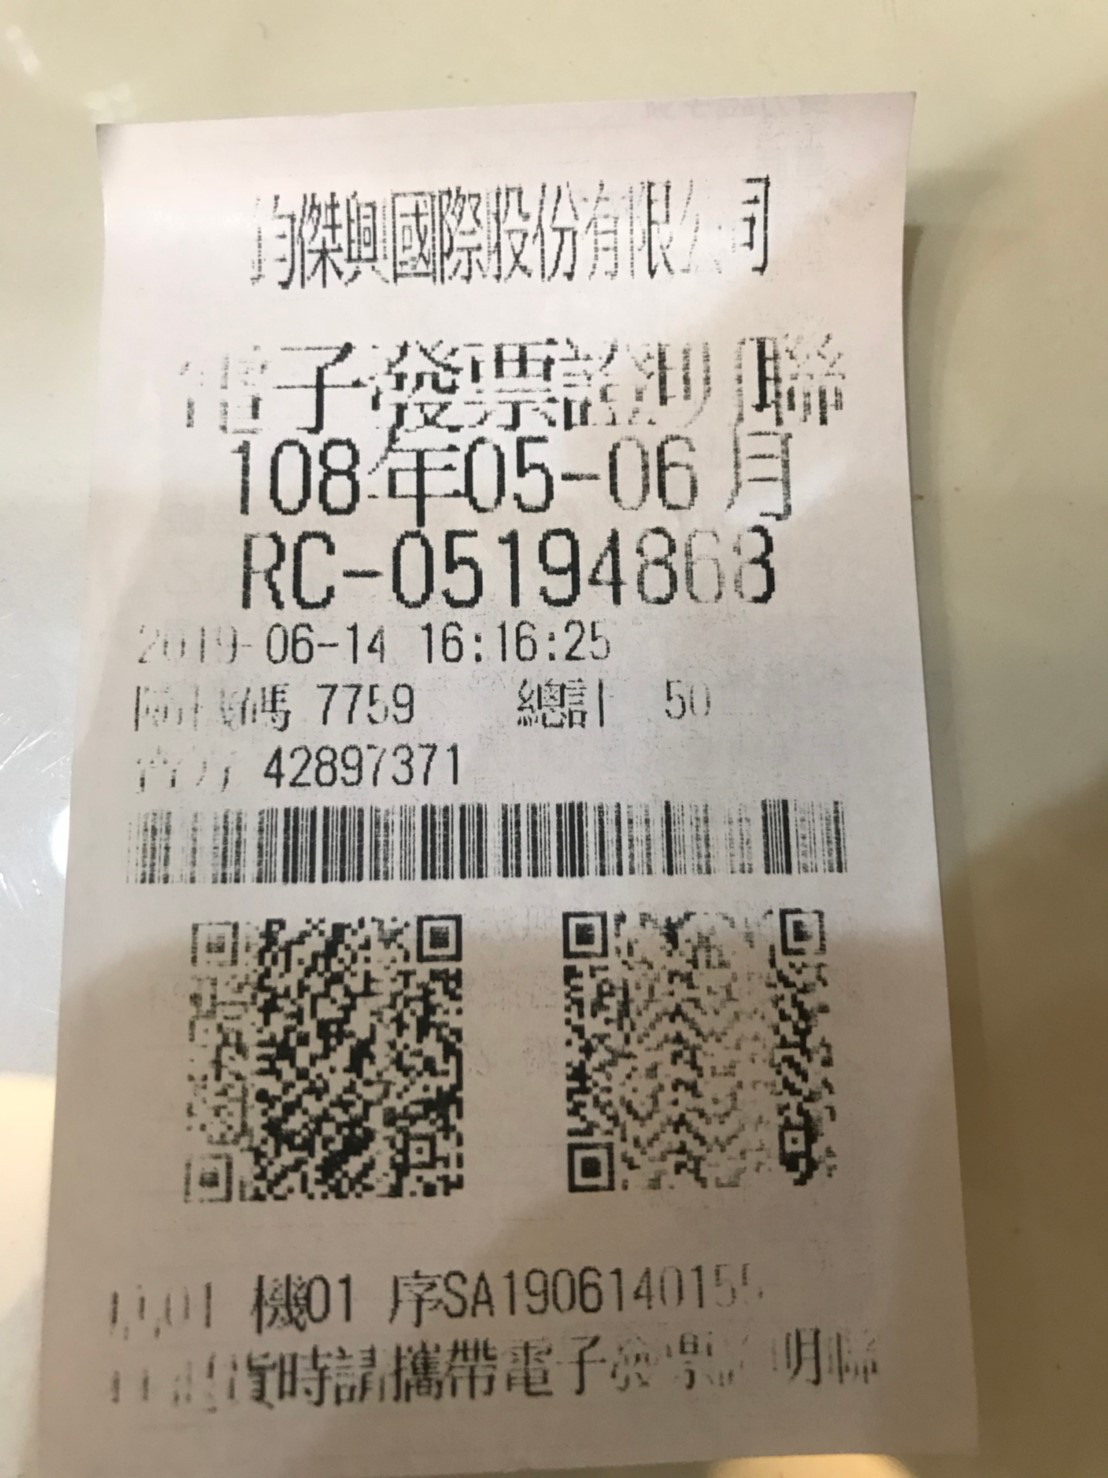Date_New: (230, 429, 801, 528)
Number_New: (388, 523, 783, 609)
